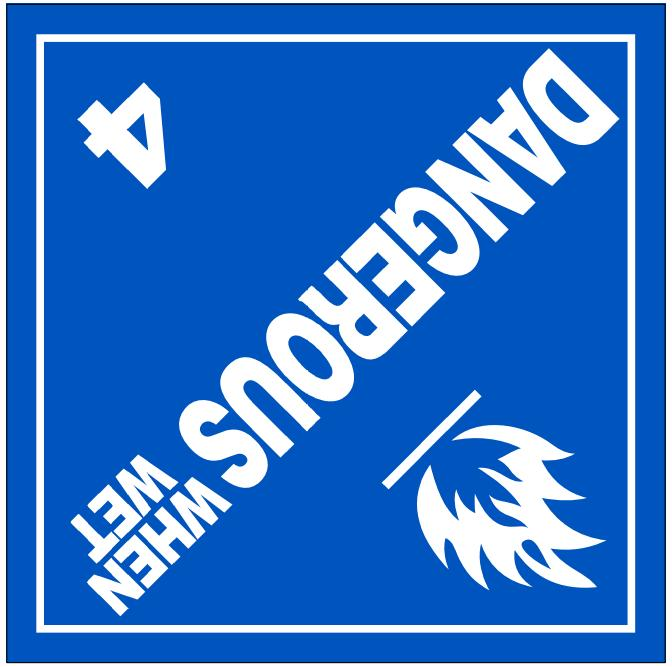dangerous-when-wet: (1, 1, 672, 667)
